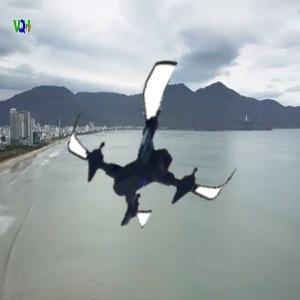drone: (65, 59, 243, 237)
